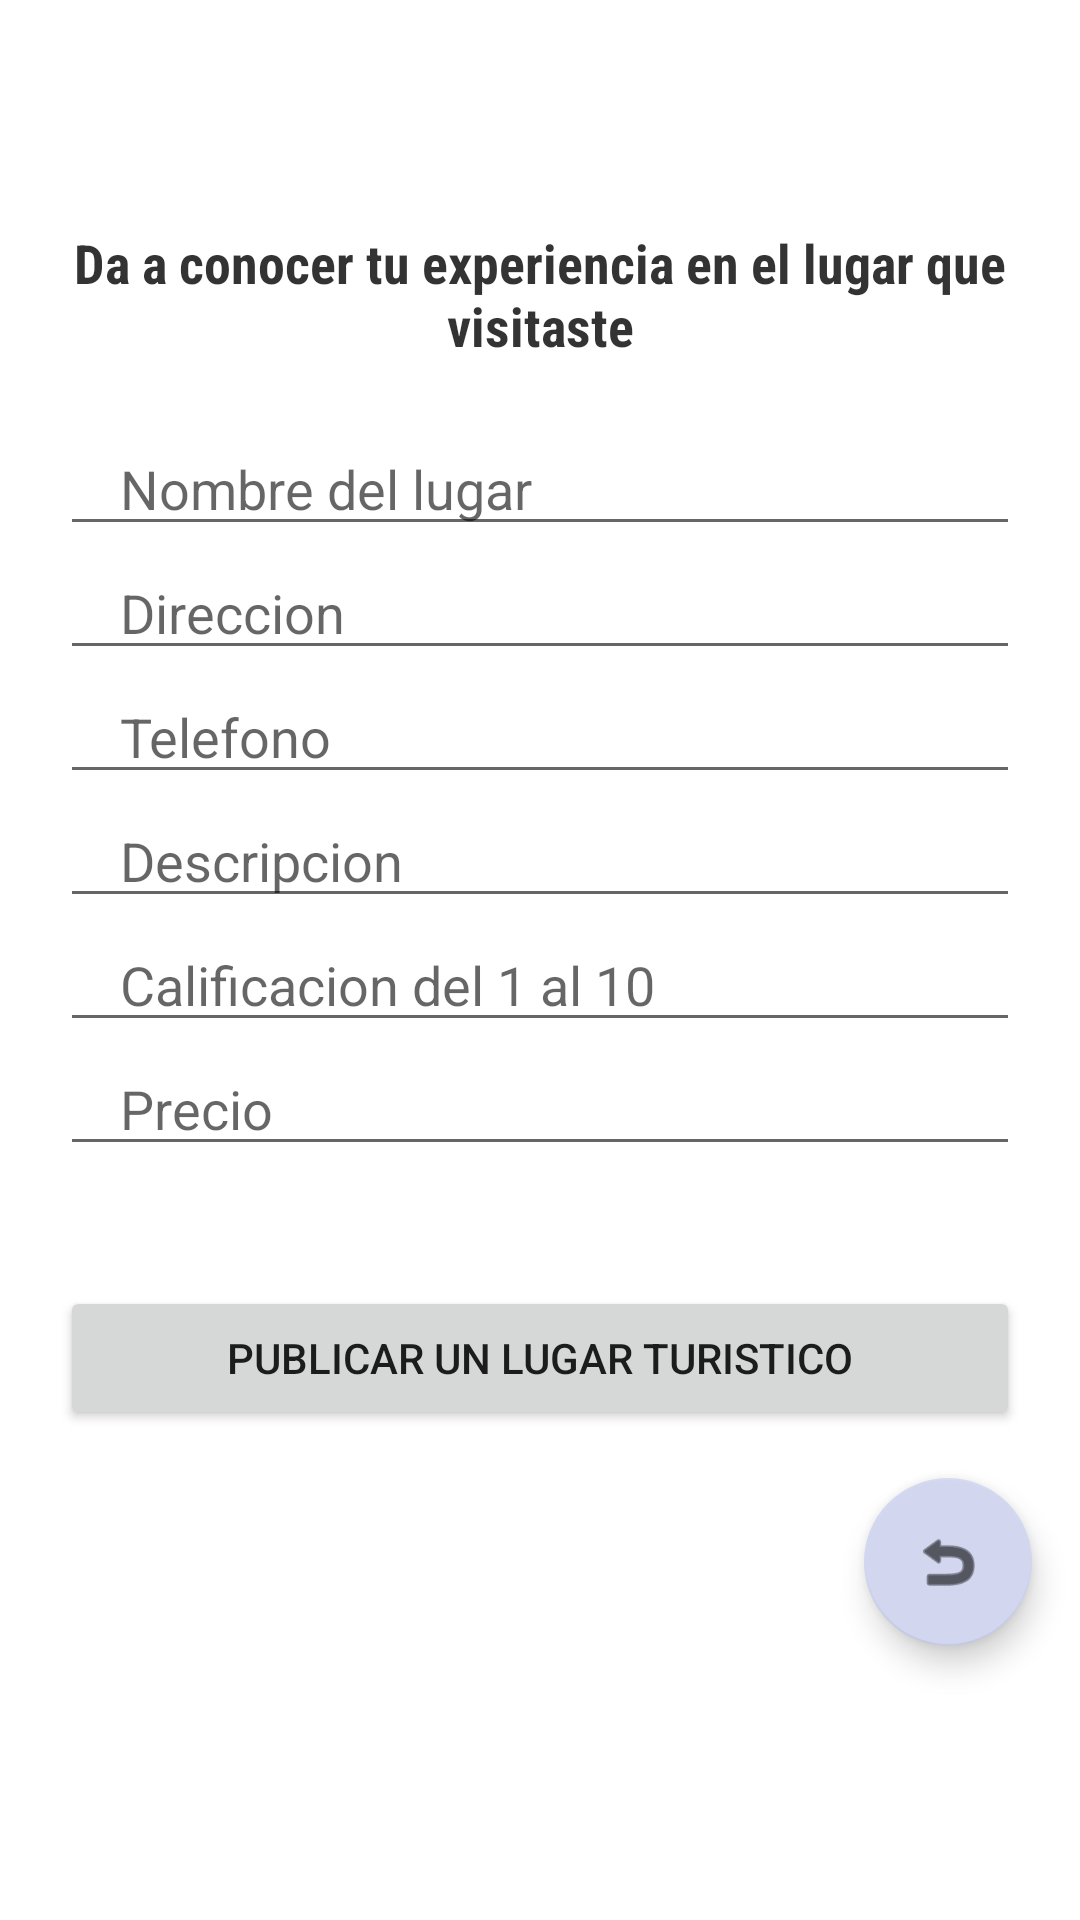

Where icons sit on this 1080 x 1920 app screen, as (x1, y1, x2, y2):
revert: (864, 1478, 1032, 1646)
